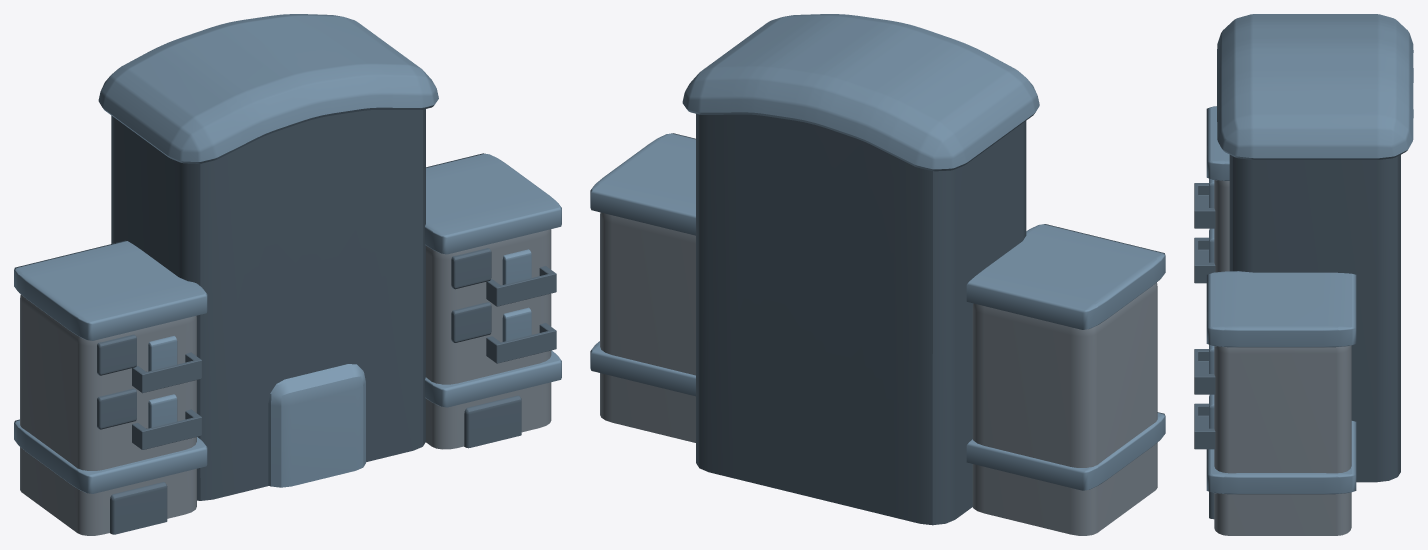
The picture shows the model from 3 angles, left to right: view 1: azimuth 30°, elevation 25°; view 2: azimuth 150°, elevation 25°; view 3: azimuth 270°, elevation 25°; orthographic projection. The views are drawn at different scales.
Parts seen in each view (by area): view 1: pCube67; view 2: pCube67; view 3: pCube67.
Boxes of the visible parts, x1=… form: pCube67: x1=14, y1=14, x2=561, y2=535; pCube67: x1=590, y1=14, x2=1165, y2=535; pCube67: x1=1194, y1=14, x2=1413, y2=535.
Size of the model in its own units: 64.55 by 50.6 by 26.51.
